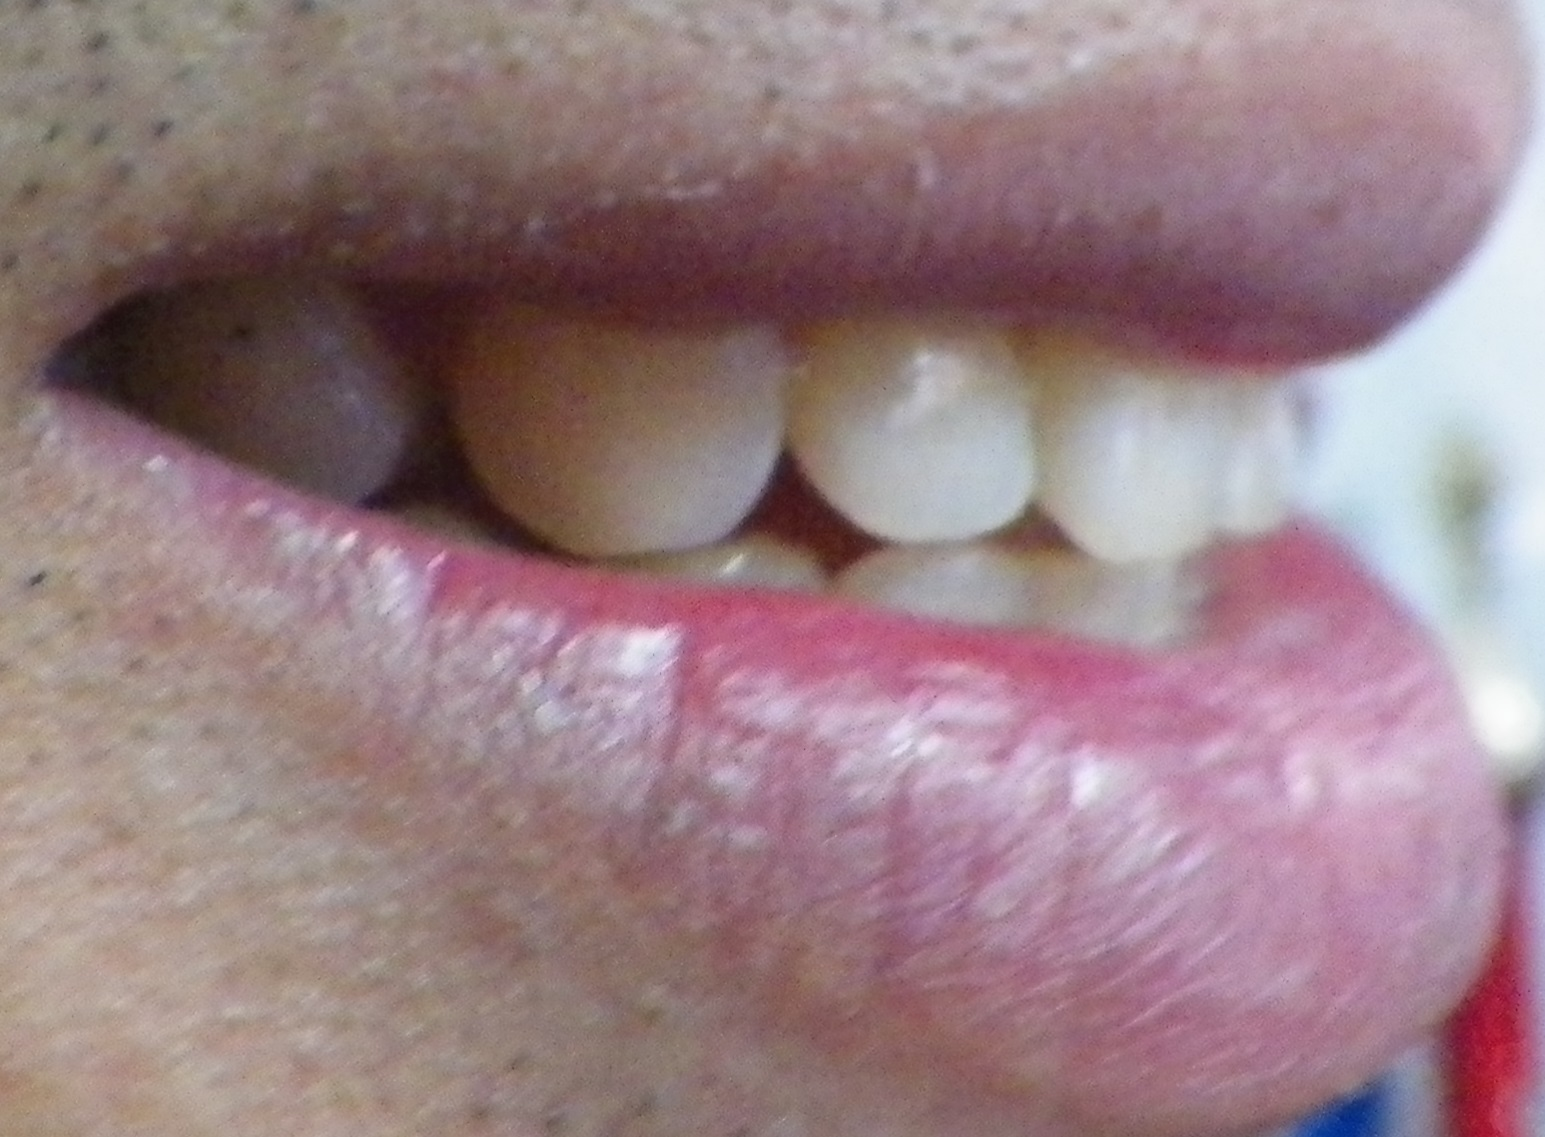boca: (78, 254, 1343, 638)
